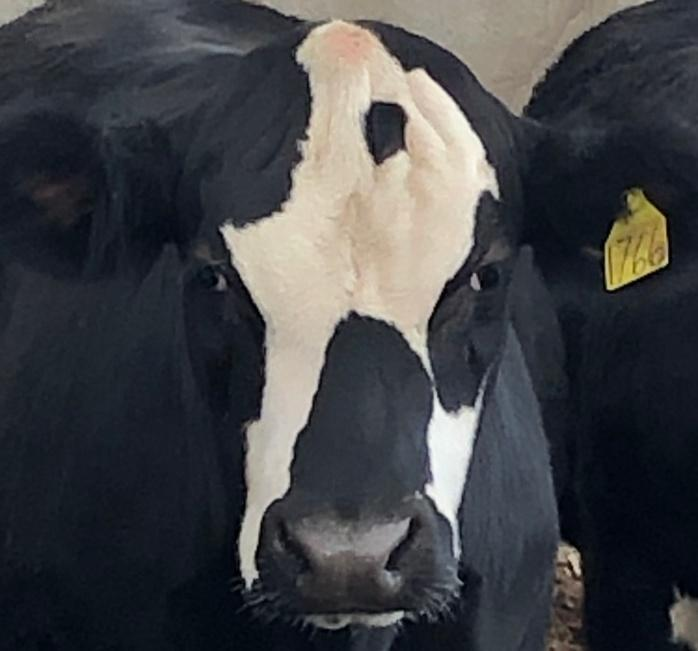muzzles: (234, 493, 467, 638)
